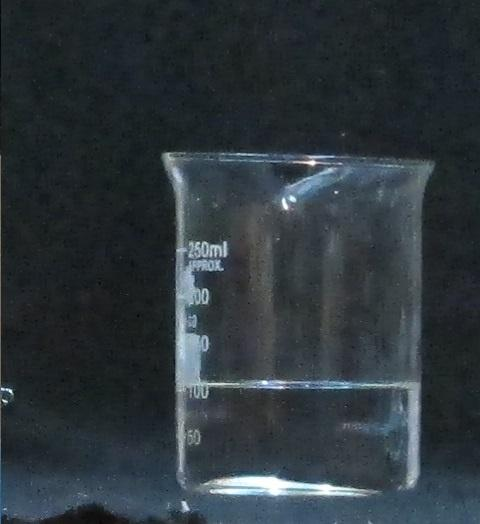Beaker: (142, 142, 451, 496)
